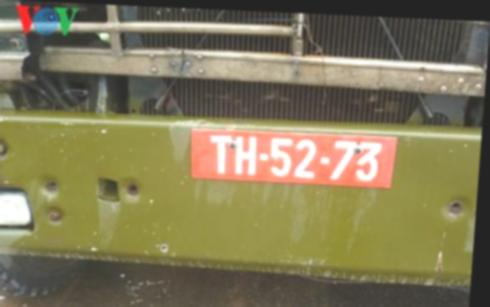License_Plate: (185, 123, 399, 193)
